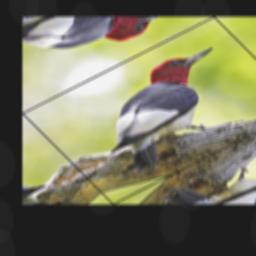Woodpecker: (69, 41, 256, 179)
